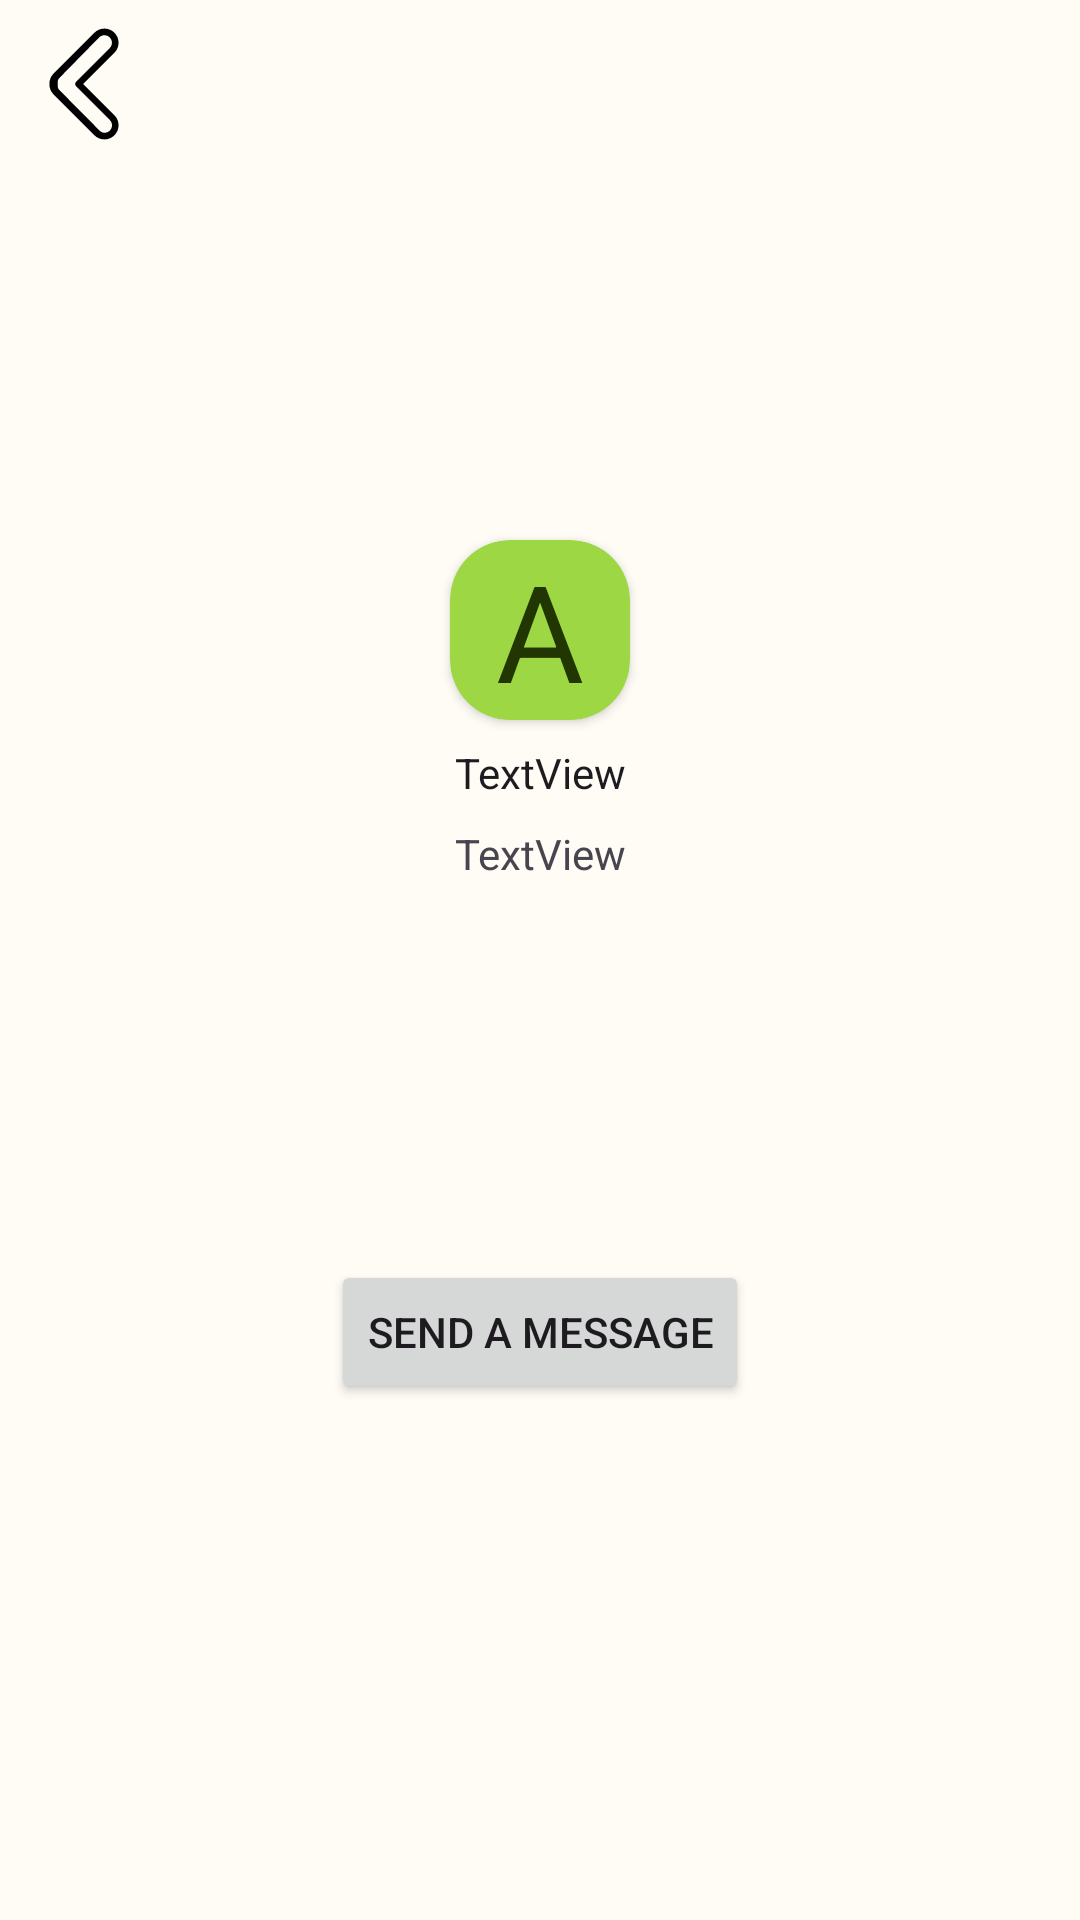

Where icons sit on this 1080*1920 app screen, as (x1, y1, x2, y2):
back: (49, 28, 119, 140)
